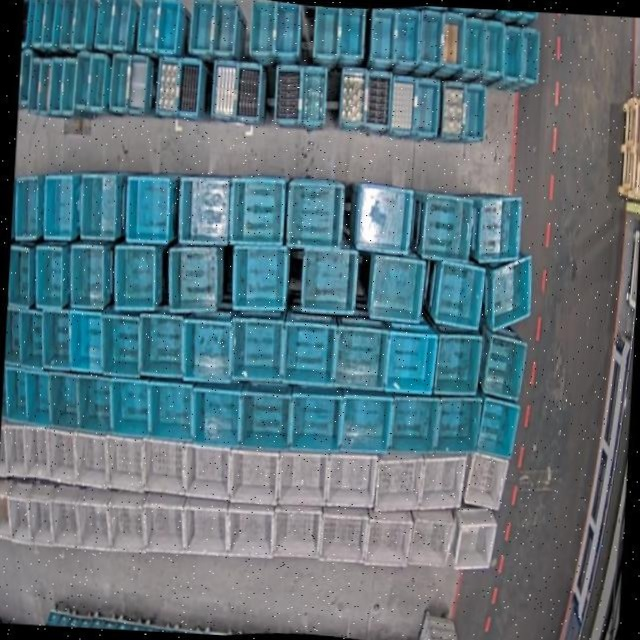Box: (366, 252, 428, 324), (229, 244, 289, 314), (227, 175, 285, 247), (166, 241, 222, 315), (286, 179, 345, 248), (355, 184, 414, 253), (418, 192, 473, 266), (300, 245, 358, 315), (487, 249, 534, 333), (431, 258, 486, 329), (472, 192, 525, 264), (432, 328, 485, 400), (332, 323, 388, 391), (227, 317, 285, 381), (382, 329, 438, 395), (238, 384, 292, 452), (280, 320, 337, 384), (288, 390, 343, 455), (178, 176, 230, 244), (431, 391, 484, 456), (181, 316, 231, 383), (338, 392, 391, 455), (416, 446, 468, 510), (480, 331, 528, 400), (137, 313, 187, 379), (112, 243, 160, 311), (374, 448, 423, 514), (190, 383, 242, 445), (386, 392, 438, 454), (124, 174, 170, 244), (324, 449, 377, 508), (362, 508, 414, 568), (474, 393, 521, 458), (407, 508, 456, 570), (227, 446, 278, 505), (319, 505, 369, 565), (145, 381, 193, 443), (98, 310, 143, 376), (272, 505, 323, 563), (277, 450, 327, 509), (462, 449, 510, 510), (182, 498, 229, 558), (182, 440, 229, 499), (141, 494, 186, 554), (225, 506, 274, 561), (105, 490, 147, 554), (79, 171, 119, 238), (454, 507, 496, 570), (69, 244, 108, 310), (141, 438, 185, 496), (66, 307, 104, 371), (103, 434, 147, 489), (69, 432, 111, 487), (109, 380, 150, 436), (33, 243, 67, 310), (74, 376, 113, 433), (43, 174, 76, 239), (48, 484, 82, 547), (76, 488, 110, 550), (43, 426, 78, 483), (12, 172, 41, 240), (46, 372, 80, 430), (23, 483, 53, 546), (39, 311, 71, 369), (412, 74, 440, 139), (437, 80, 465, 145), (21, 371, 52, 429), (338, 67, 366, 130), (15, 309, 45, 367), (5, 481, 33, 543), (274, 63, 301, 126), (368, 5, 397, 63), (300, 65, 327, 127), (1, 422, 30, 479), (210, 59, 238, 118), (233, 64, 261, 123), (208, 0, 238, 54), (175, 57, 201, 119), (20, 427, 51, 479), (7, 245, 32, 309), (389, 75, 415, 136), (460, 80, 486, 141), (311, 6, 341, 58), (366, 70, 392, 130), (154, 55, 179, 116), (248, 0, 276, 54), (108, 50, 132, 113), (394, 6, 420, 64), (273, 2, 300, 57), (439, 12, 466, 67), (187, 0, 214, 52), (338, 6, 365, 58), (418, 9, 443, 65), (127, 54, 150, 114), (2, 366, 27, 421), (153, 0, 179, 52), (461, 17, 485, 72), (135, 0, 160, 51), (521, 26, 542, 83), (73, 49, 92, 112), (483, 20, 505, 74), (501, 26, 522, 81), (93, 0, 116, 48), (3, 306, 22, 364), (109, 0, 131, 50), (60, 56, 78, 117), (89, 51, 107, 110), (70, 0, 91, 49), (17, 48, 33, 109), (58, 0, 78, 48), (39, 55, 54, 116), (50, 56, 64, 116), (40, 0, 58, 46), (28, 59, 43, 114), (30, 0, 47, 47), (0, 477, 13, 538), (19, 0, 32, 47)
